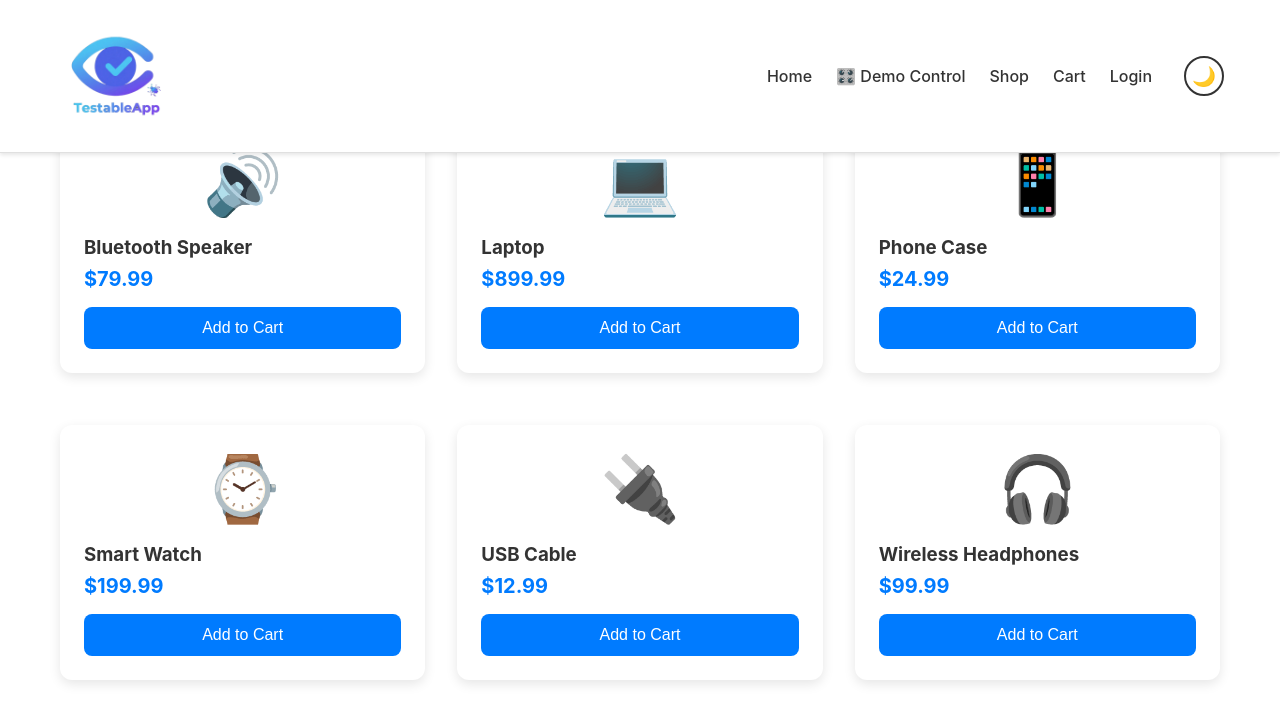
Test: Shopping Flow › Shop Page › should add product to cart
(page scrolled)
Click the button with test id "add-to-cart-1" at {"x": 1038, "y": 635}, box [879,614,1196,656]
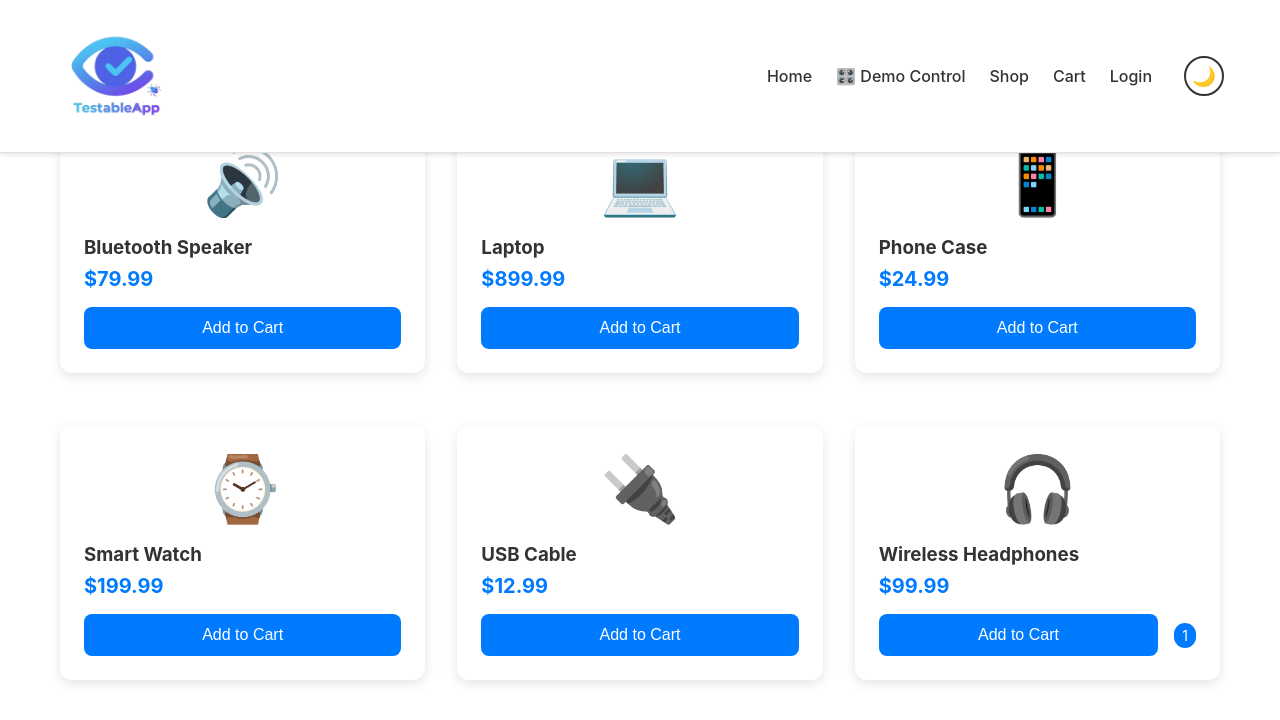
Now the text with test id "cart-quantity-1" reads "1", box [1182,627,1188,644]
